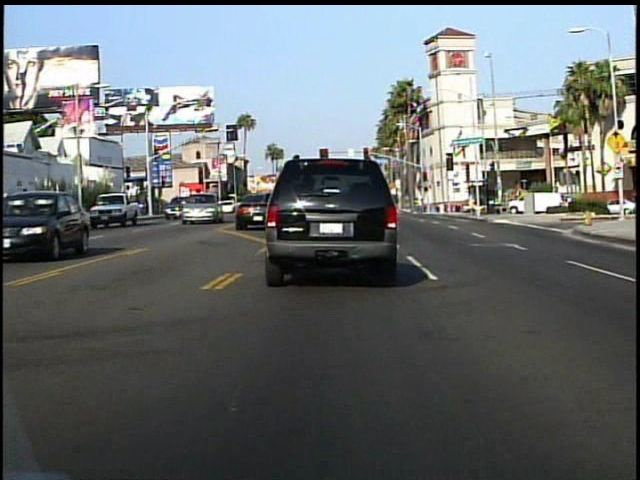person: (166, 192, 181, 223)
